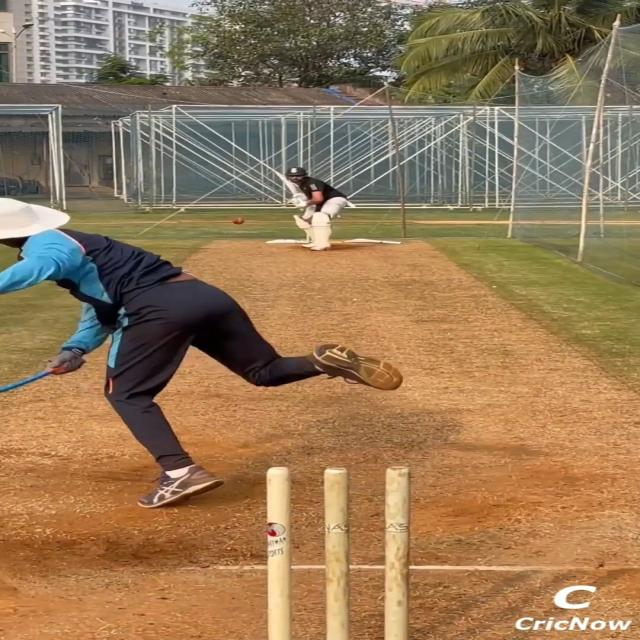ball: (231, 216, 245, 225)
stump: (260, 463, 414, 640)
